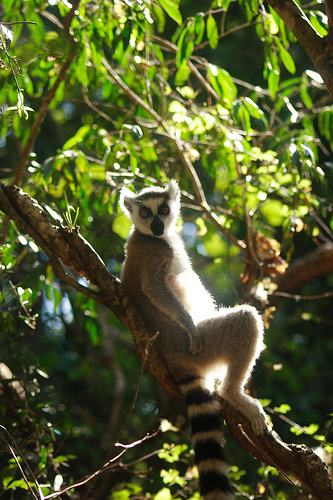cat: (122, 176, 272, 498)
